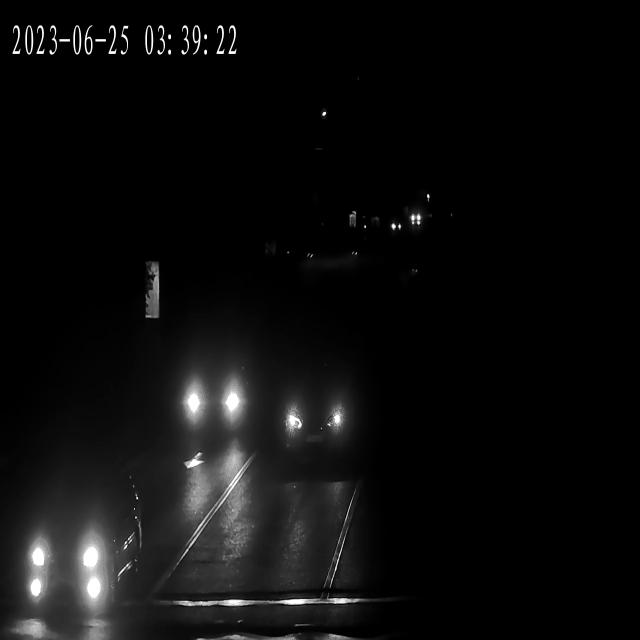Car: (26, 461, 136, 616), (178, 345, 254, 458), (285, 365, 358, 467)
